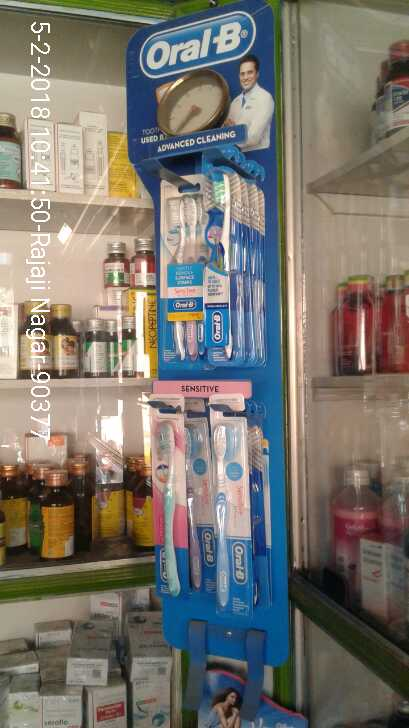oralb: (203, 177, 264, 359), (207, 417, 259, 598), (159, 182, 209, 362), (149, 415, 188, 594)
